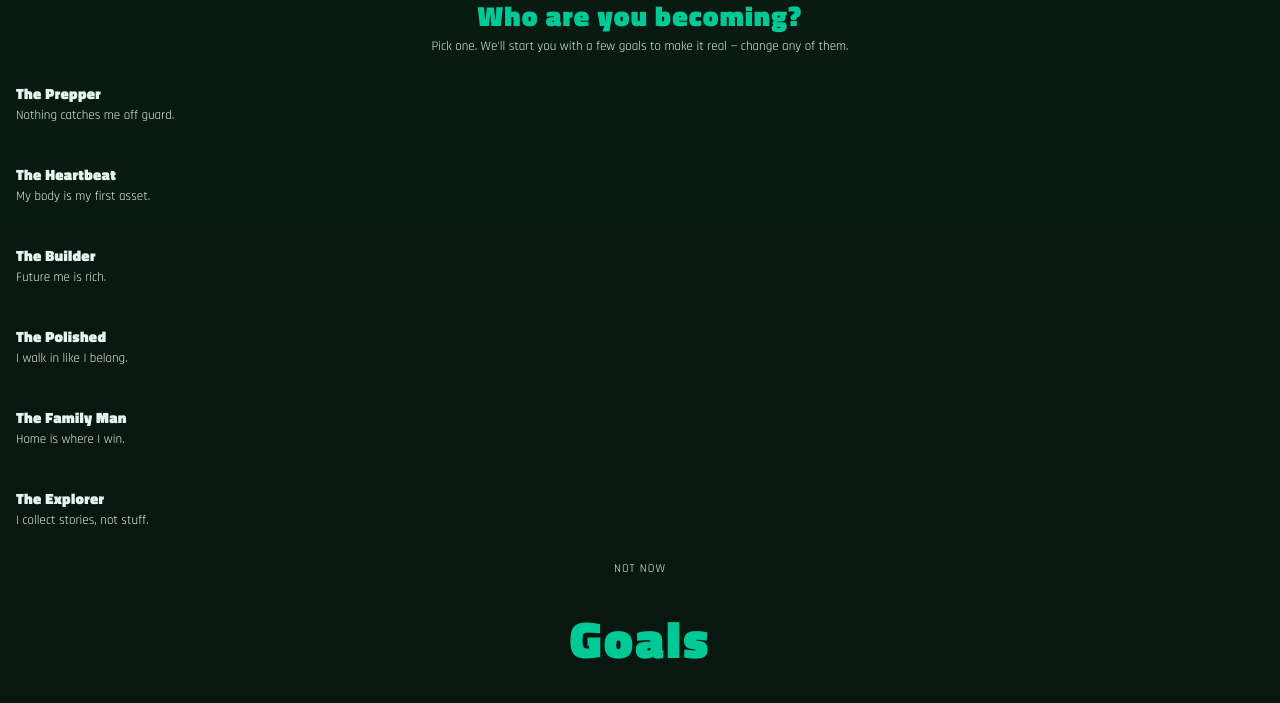
Test: HomePanel — identity picker (TODO §31) › "Not now" hides it for the session
Click the button "Not now".
click(640, 569)  # box [600,554,680,583]
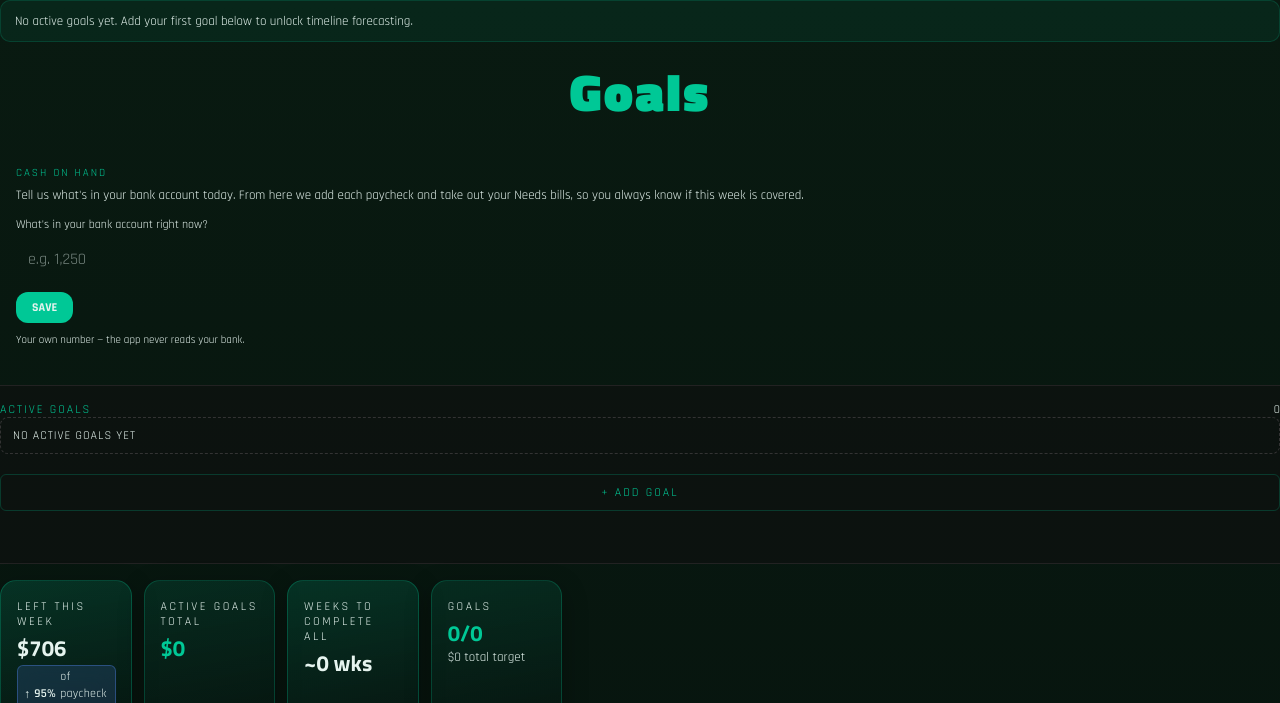
Check: the element with test id "archetype-picker" is gone
